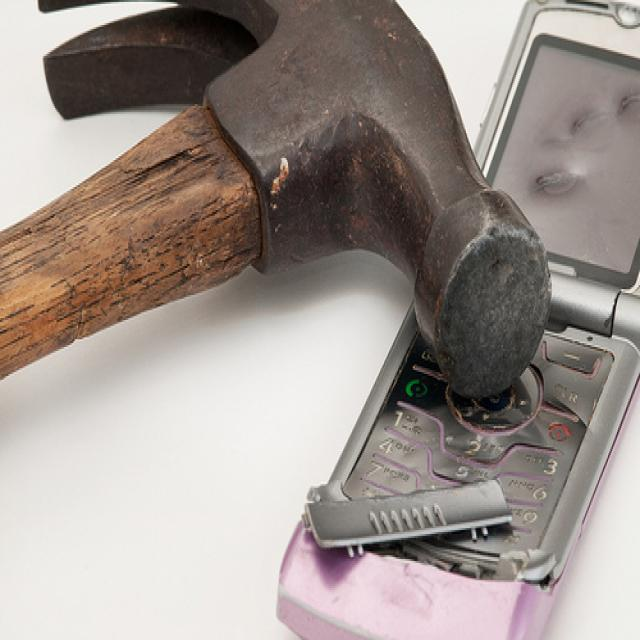hammer: (0, 0, 550, 426)
